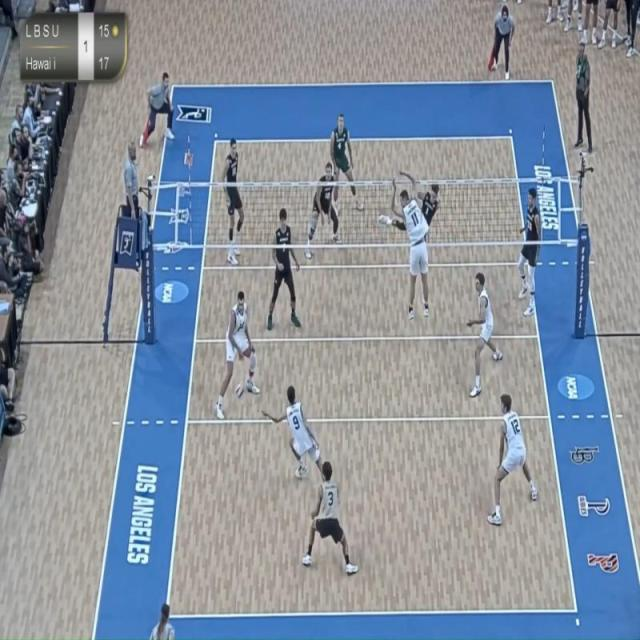volleyball: (232, 378, 246, 404)
